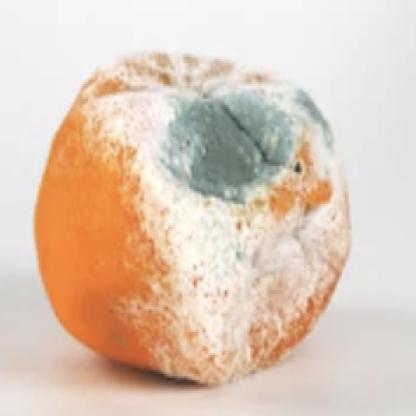rotten: (38, 47, 353, 390)
